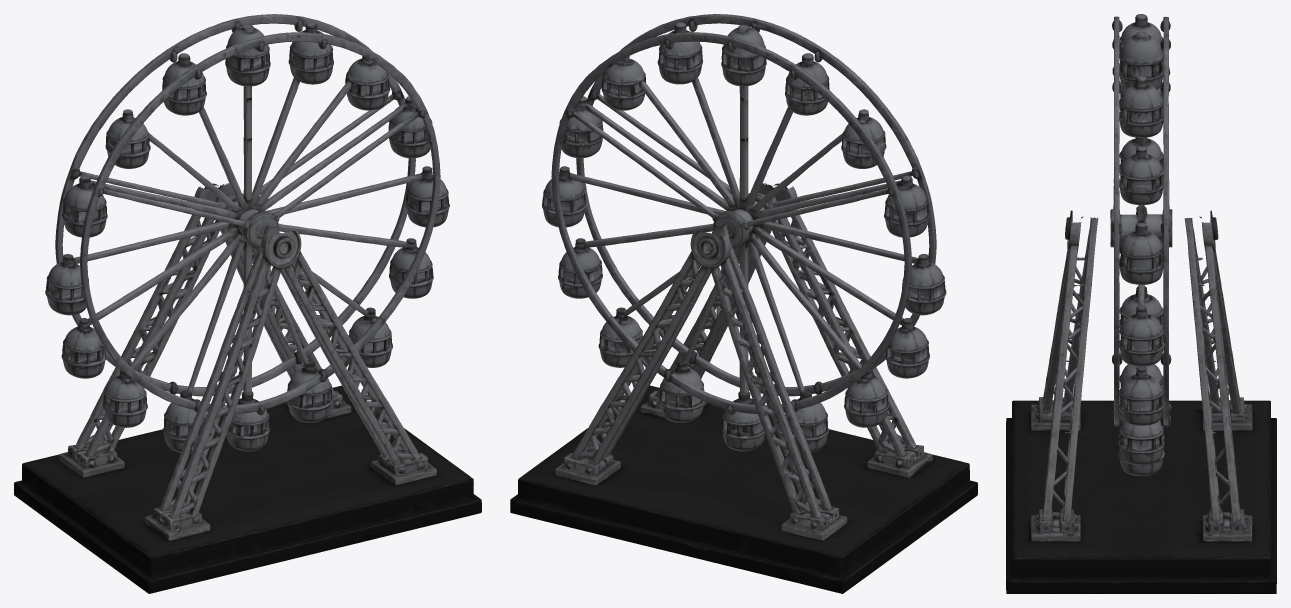
The model's file is ferris-wheel-basic.v1.glb.
The picture shows the model from 3 angles, left to right: view 1: azimuth 30°, elevation 25°; view 2: azimuth 150°, elevation 25°; view 3: azimuth 270°, elevation 25°; orthographic projection.
Visible parts, largest first — view 1: FerrisWheelTrophy; view 2: FerrisWheelTrophy; view 3: FerrisWheelTrophy.
Boxes of the visible parts, x1,y1,x2,y2 form: FerrisWheelTrophy: (14,14,481,593); FerrisWheelTrophy: (510,14,977,593); FerrisWheelTrophy: (1006,14,1276,593).
Bounding box in the file's own units: 0.8713 × 1 × 0.5125.
Materials: 3 (3 with a texture image).
